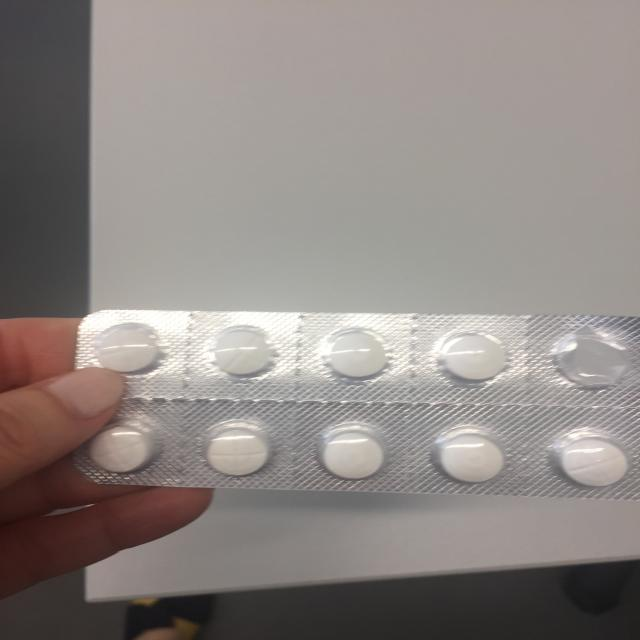Empty: (546, 327, 636, 395)
Pill: (312, 325, 400, 387), (198, 322, 284, 384), (434, 328, 514, 388)
